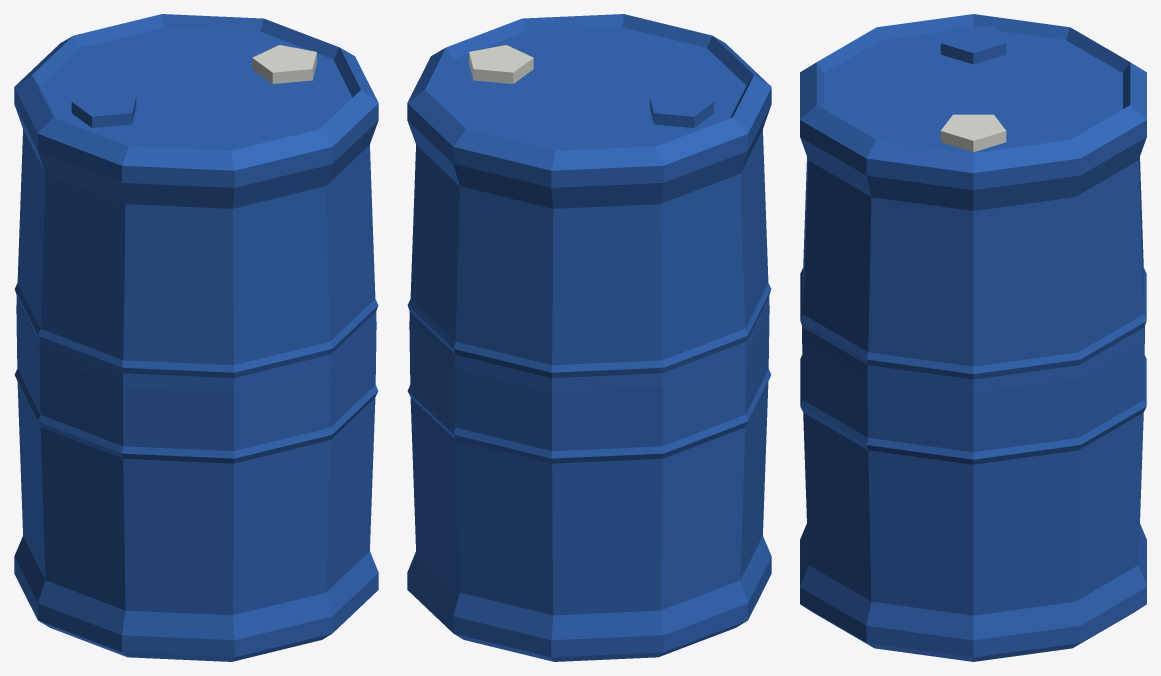
File: barrel-plastic.glb
The picture shows the model from 3 angles, left to right: view 1: azimuth 30°, elevation 25°; view 2: azimuth 150°, elevation 25°; view 3: azimuth 270°, elevation 25°; orthographic projection.
Visible parts, largest first — view 1: BarrelPlastic; view 2: BarrelPlastic; view 3: BarrelPlastic.
Part boxes in pixels (<box>): BarrelPlastic: <box>14,14,378,661</box>; BarrelPlastic: <box>407,14,771,661</box>; BarrelPlastic: <box>800,14,1146,661</box>.
Size of the model in its own units: 0.58 by 0.892 by 0.5516.
